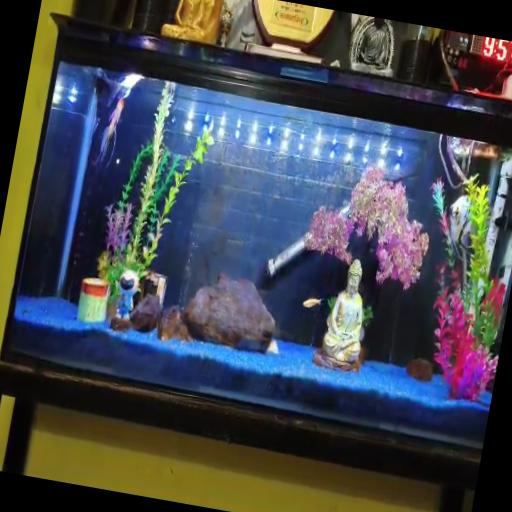Fish: (449, 195, 472, 284), (95, 99, 124, 167), (449, 195, 471, 249), (303, 299, 322, 308)
